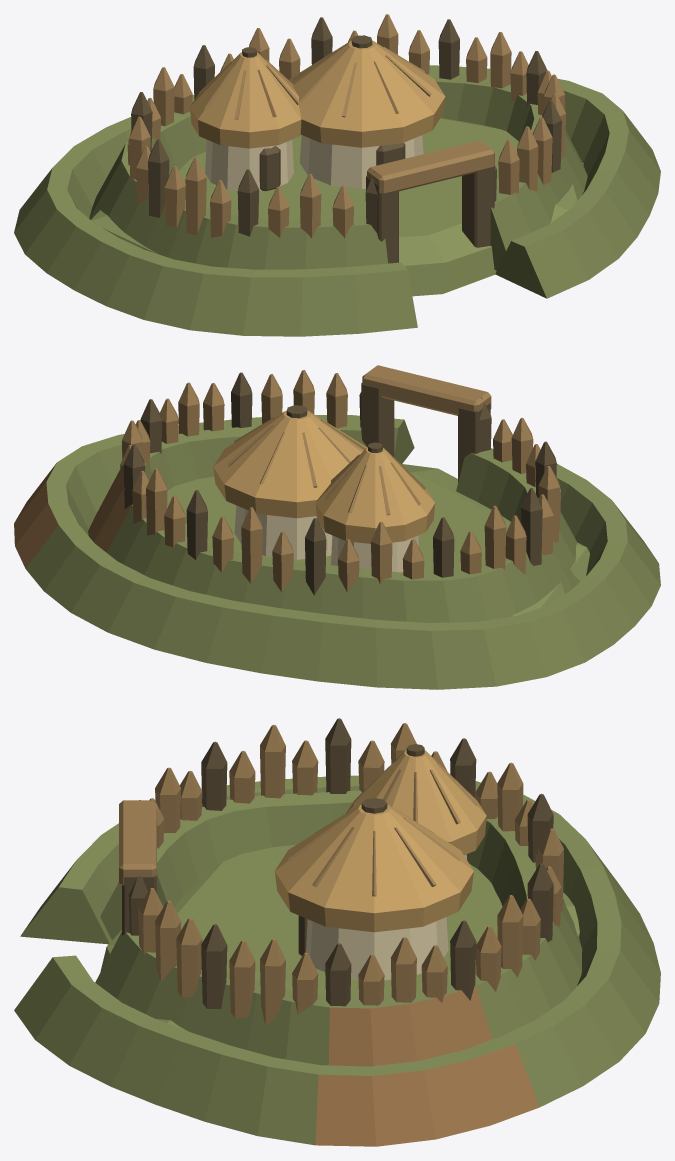
The model's file is hillfort.glb.
The picture shows the model from 3 angles, top to bottom: view 1: azimuth 30°, elevation 25°; view 2: azimuth 150°, elevation 25°; view 3: azimuth 270°, elevation 25°; orthographic projection. The views are drawn at different scales.
Visible parts, largest first — view 1: hillfort; view 2: hillfort; view 3: hillfort.
Part boxes in pixels (box(x1,y1,x2,y2)): hillfort: box(14, 14, 660, 336); hillfort: box(14, 365, 660, 689); hillfort: box(14, 718, 660, 1146).
Bounding box in the file's own units: 1.52 × 0.4325 × 1.22.
